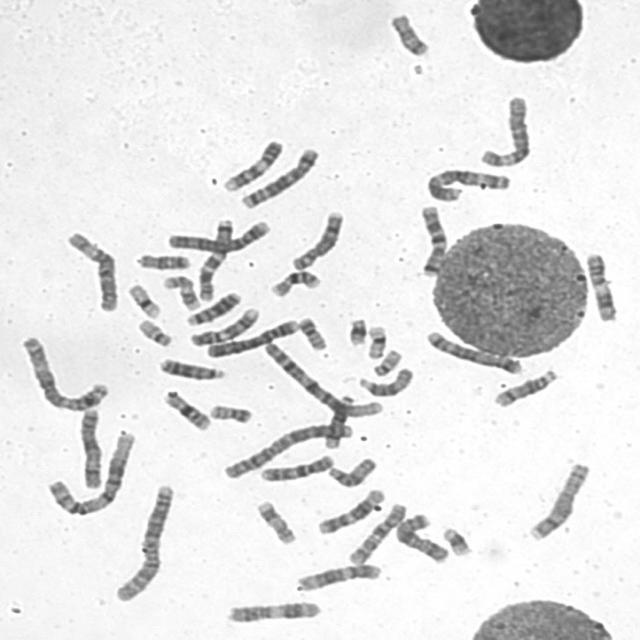A1: (260, 338, 386, 419), (43, 427, 138, 518)
A2: (219, 420, 356, 480), (109, 481, 176, 603)
A3: (17, 332, 110, 413), (422, 164, 513, 203)
B4: (203, 315, 300, 360), (163, 216, 272, 254)
B5: (238, 144, 321, 210), (422, 327, 525, 376)
C10: (344, 499, 409, 566), (256, 451, 337, 483)
C11: (582, 248, 620, 324), (222, 598, 324, 625)
C12: (314, 484, 387, 536), (292, 560, 384, 592)
C6: (61, 228, 121, 313), (476, 92, 533, 168)
C7: (194, 214, 237, 303), (415, 201, 449, 279)
C8: (525, 458, 593, 542), (287, 207, 347, 272)
C9: (219, 136, 285, 193), (186, 304, 262, 348)
D13: (182, 288, 243, 327), (155, 354, 227, 382)
D14: (490, 366, 560, 408), (321, 391, 356, 449)
D15: (354, 364, 416, 398), (324, 454, 378, 488)
E16: (158, 386, 214, 433), (266, 267, 323, 299)
E17: (252, 497, 298, 546), (159, 272, 202, 312)
E18: (386, 10, 432, 58), (133, 250, 192, 271)
F19: (124, 280, 163, 320), (363, 322, 389, 360)
F20: (294, 314, 329, 352), (205, 401, 254, 425)
G21: (438, 523, 474, 557), (344, 315, 370, 347)
G22: (134, 316, 174, 349), (369, 346, 403, 377)
X: (391, 509, 451, 565), (74, 404, 104, 491)
